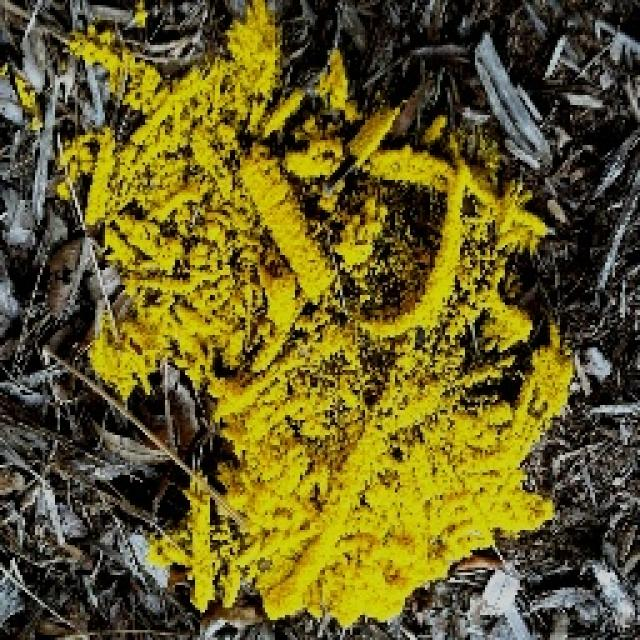Dog_vomit_slime_mold: (18, 11, 594, 618)
